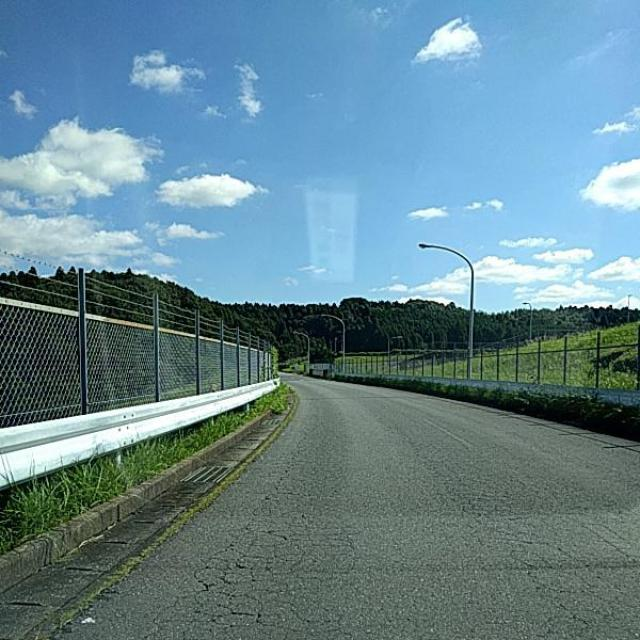Crack: (106, 374, 640, 640)
